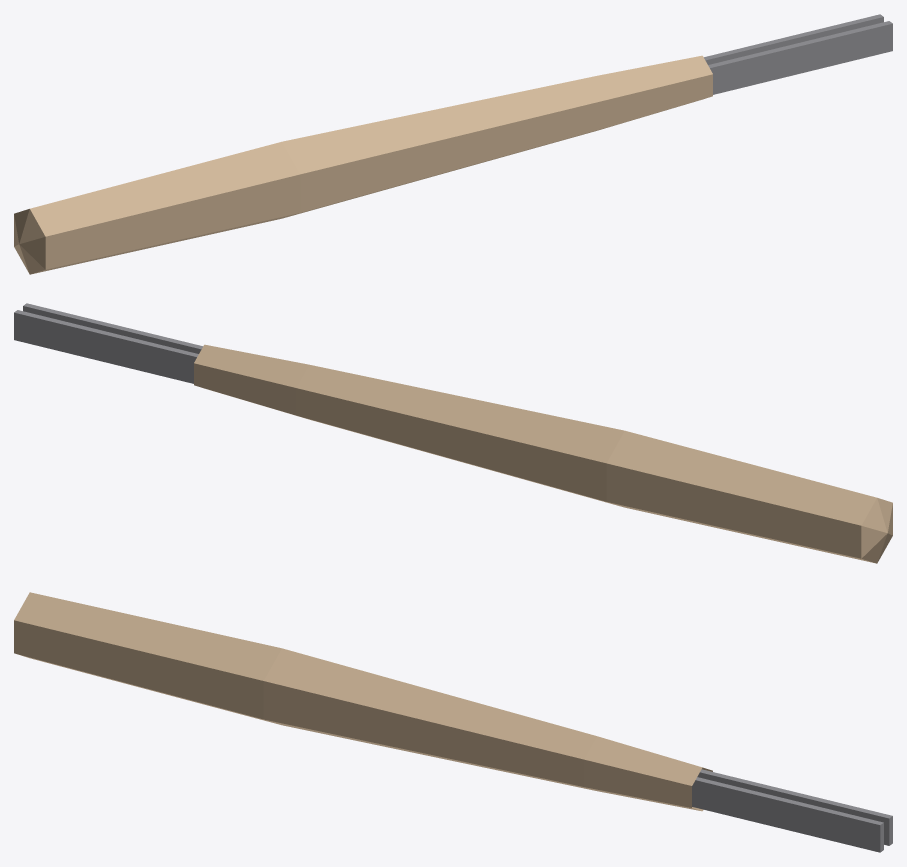
The model's file is prop-ruling-pen-blank.fbx.
The picture shows the model from 3 angles, top to bottom: view 1: azimuth 30°, elevation 25°; view 2: azimuth 150°, elevation 25°; view 3: azimuth 330°, elevation 25°; orthographic projection.
Visible parts, largest first — view 1: prop-ruling-pen-blank; view 2: prop-ruling-pen-blank; view 3: prop-ruling-pen-blank.
Part boxes in pixels (x1=…): prop-ruling-pen-blank: x1=14, y1=14, x2=892, y2=274; prop-ruling-pen-blank: x1=14, y1=303, x2=892, y2=563; prop-ruling-pen-blank: x1=14, y1=592, x2=892, y2=852.
Size of the model in its own units: 16.5 by 1.4 by 1.21.
